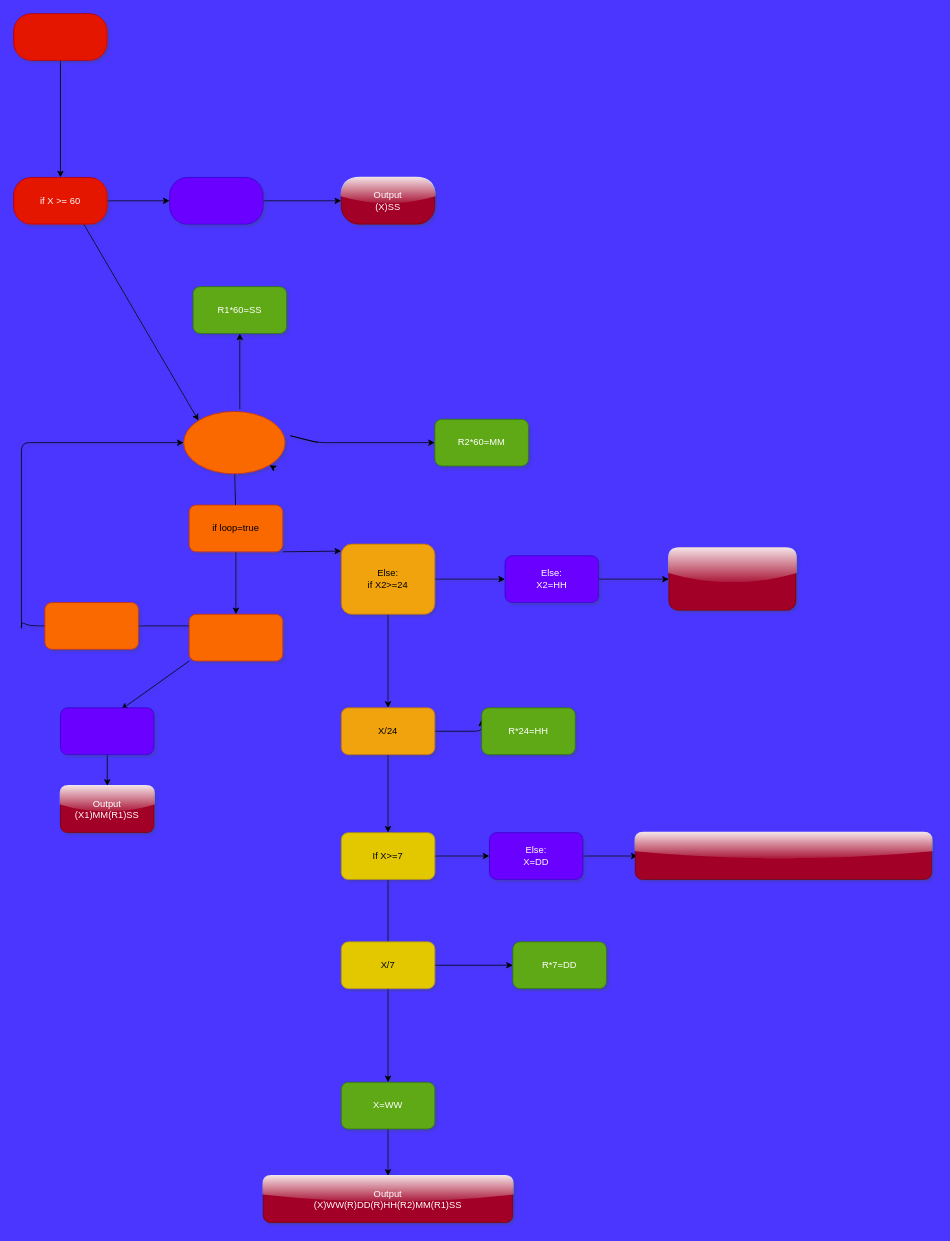
This 950x1241 diagram has some shape labels left out. Each missing label, with the box of its shape:
Else: X1=MM: (60, 707, 154, 755)
Else: X=SS: (169, 177, 263, 224)
If X>=60: (188, 613, 283, 661)
Input->X: (13, 13, 107, 60)
loop=false: (44, 602, 138, 649)
Output (X)DD(R)HH(R2)MM(R1)SS: (635, 832, 932, 879)
Output (X2)HH(R2)MM(R1)SS: (668, 547, 796, 610)
X/60 = X+R R*60: (183, 411, 285, 474)
